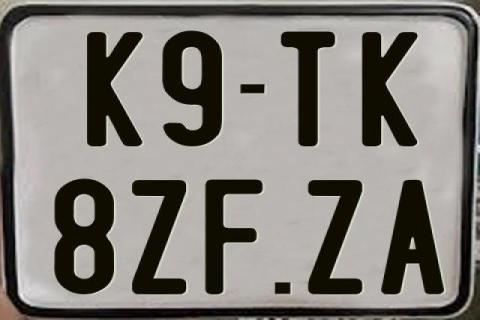0: (159, 29, 225, 147), (52, 177, 112, 297)
A: (380, 178, 446, 294)
F: (205, 178, 264, 298)
K: (360, 31, 416, 149), (85, 31, 141, 146)
T: (278, 31, 333, 147)
Z: (132, 178, 188, 296), (308, 177, 362, 297)
